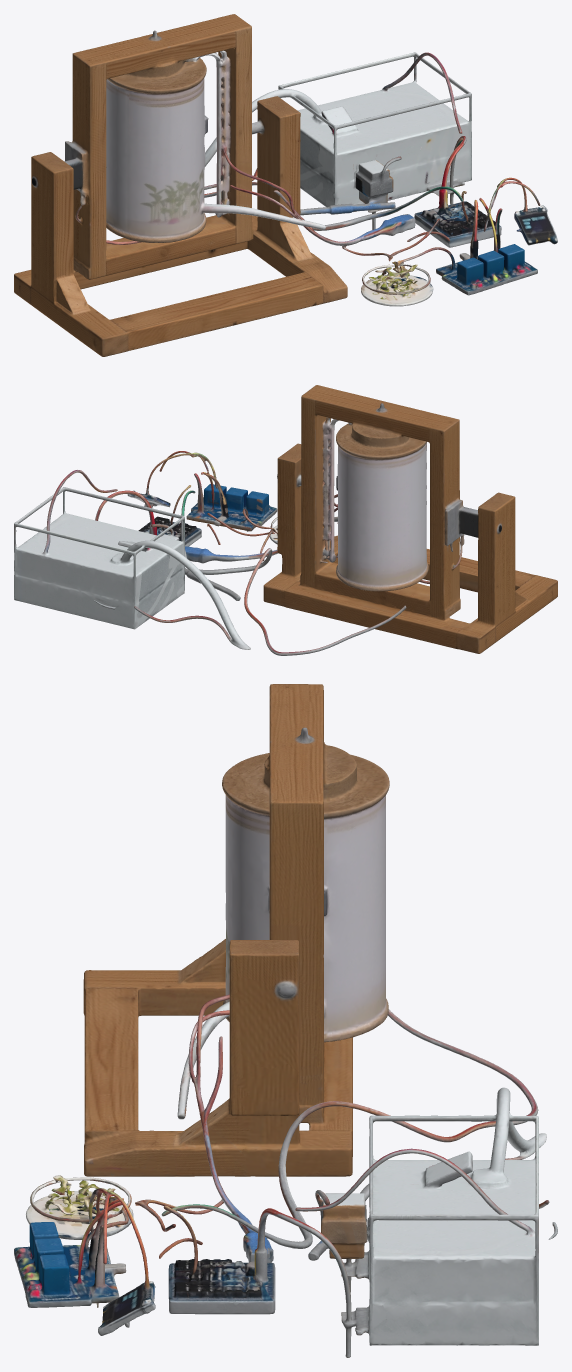
The model's file is bioreactor_chambler.glb.
3 renders of one model, top to bottom at view 1: azimuth 30°, elevation 25°; view 2: azimuth 150°, elevation 25°; view 3: azimuth 270°, elevation 25°, orthographic. The views are drawn at different scales.
Size of the model in its own units: 1.9 by 1.04 by 1.28.
Materials: 1 (1 with a texture image).
